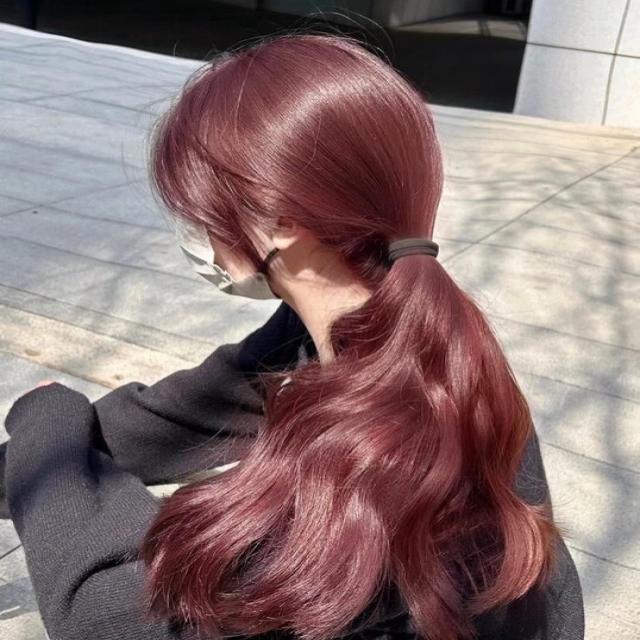Nonhelmet: (133, 18, 462, 314)
